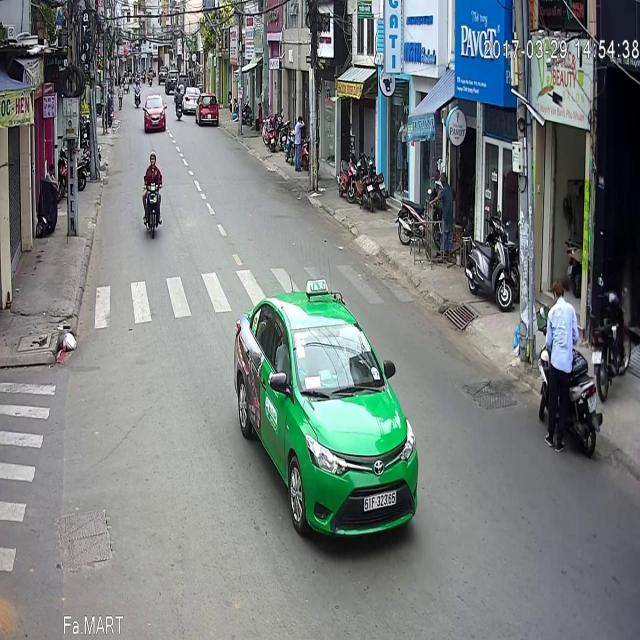car: (233, 219, 417, 482), (142, 34, 167, 74), (195, 34, 219, 68)
motorcycle: (141, 92, 163, 178)
